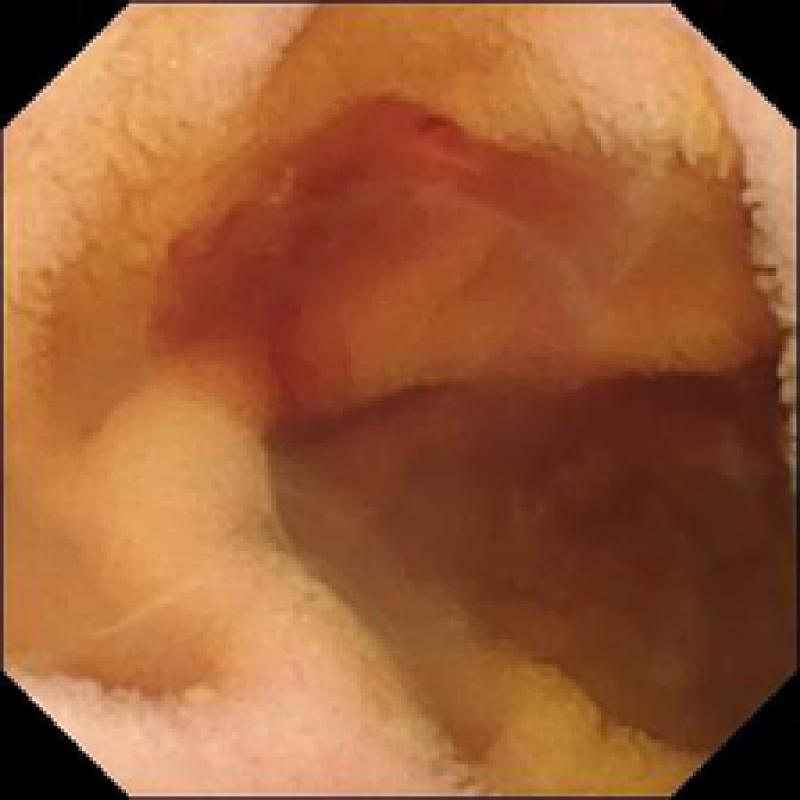bleeding: (143, 93, 571, 432)
